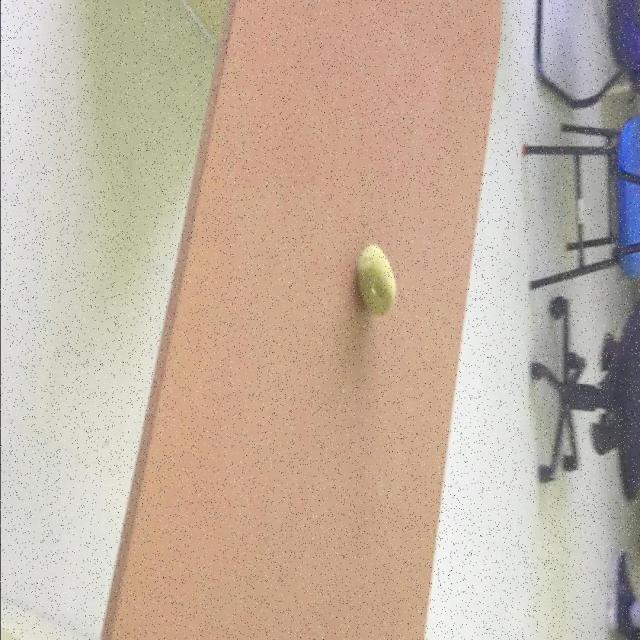Kiwi: (357, 245, 398, 318)
